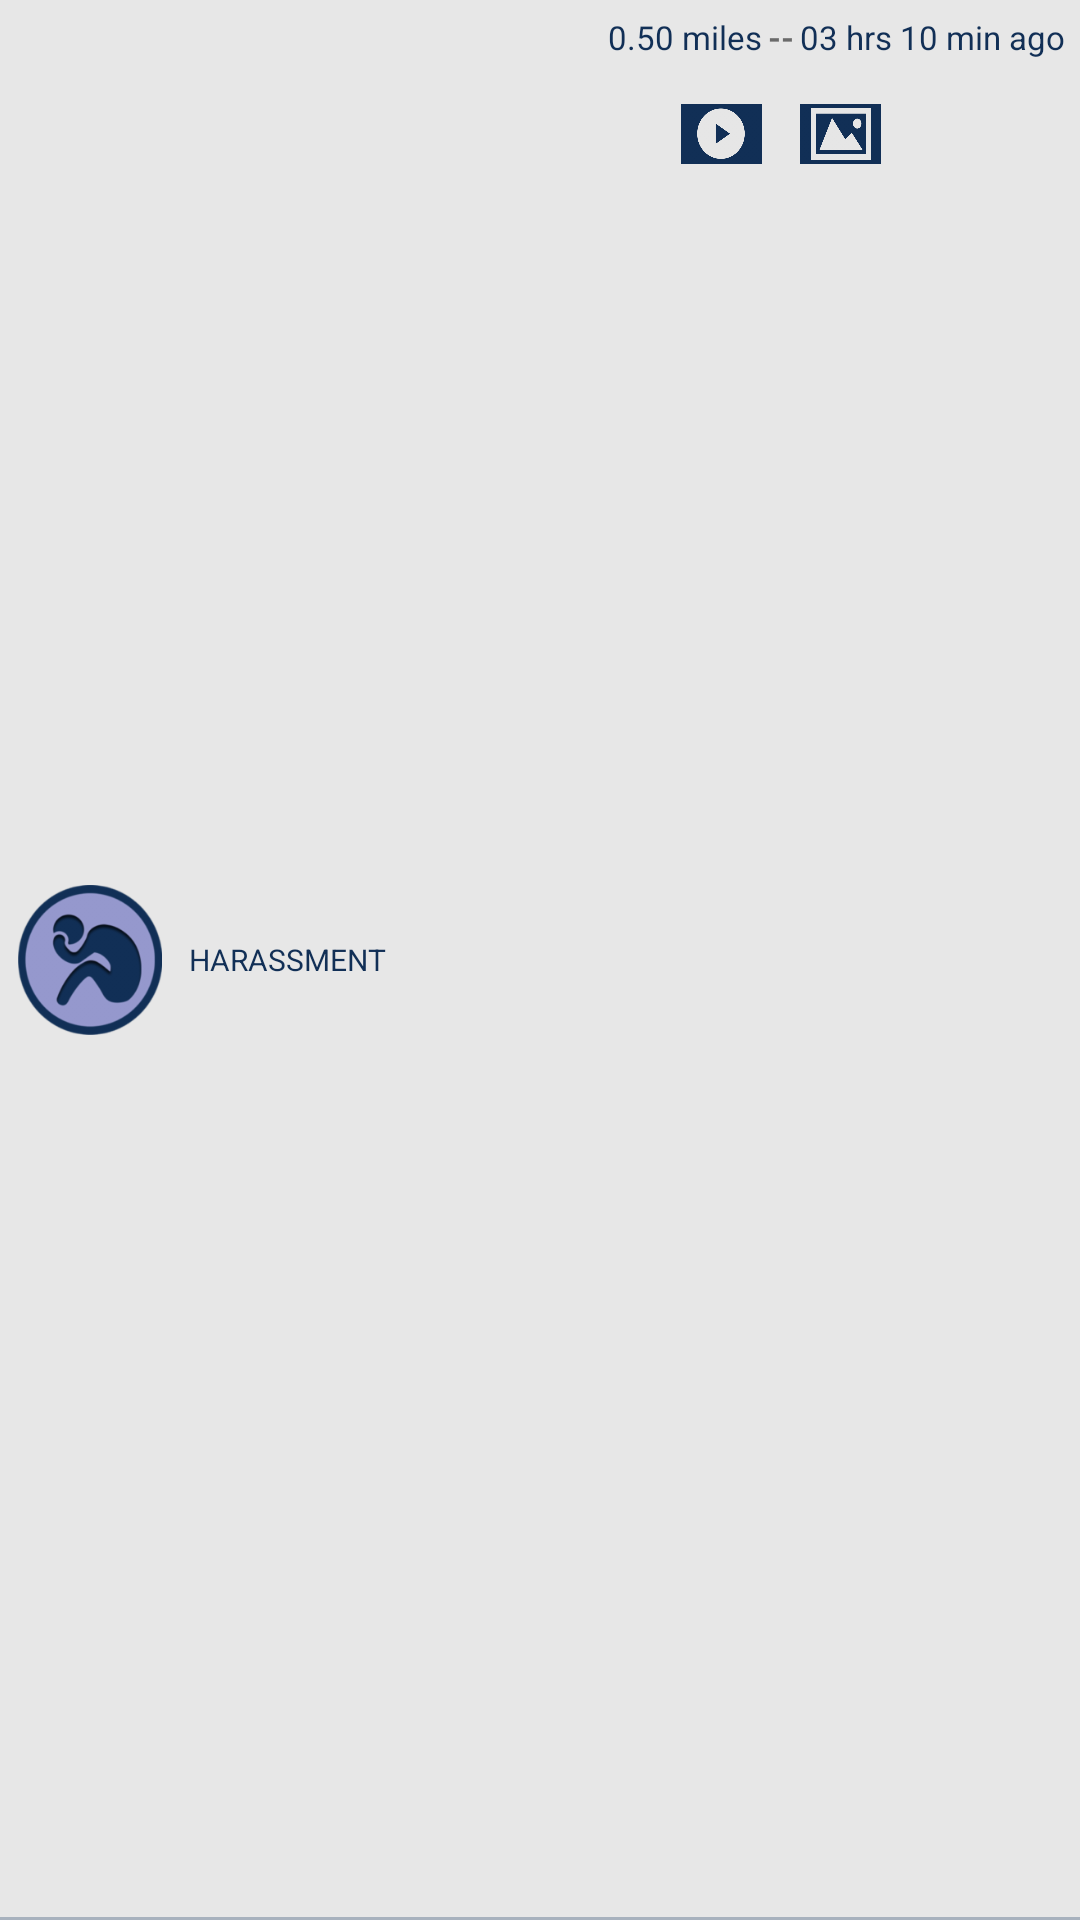

Where to tap for icons on this 1080w x 1920h app screen, as (x,y):
photo: (840,134)
video: (721,134)
